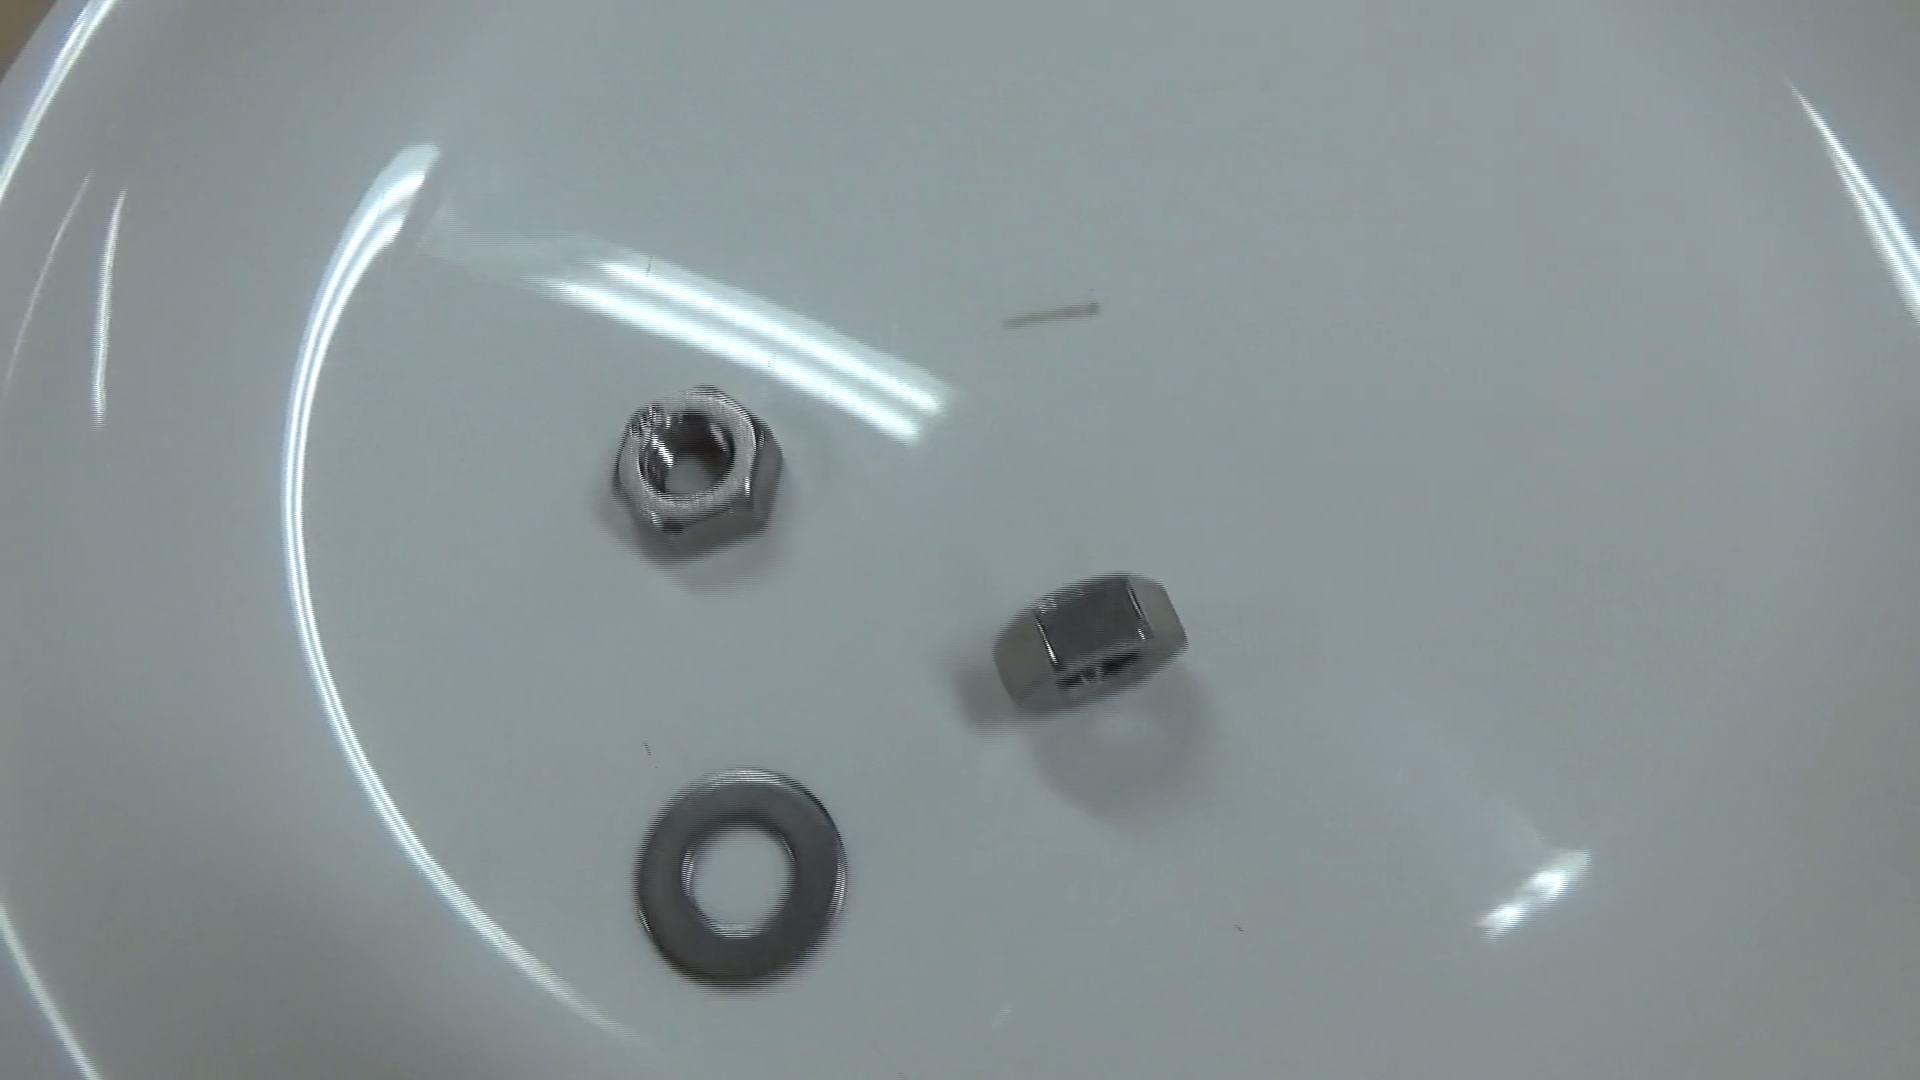nut: (597, 363, 793, 589), (986, 559, 1193, 741)
washer: (618, 750, 860, 997)
